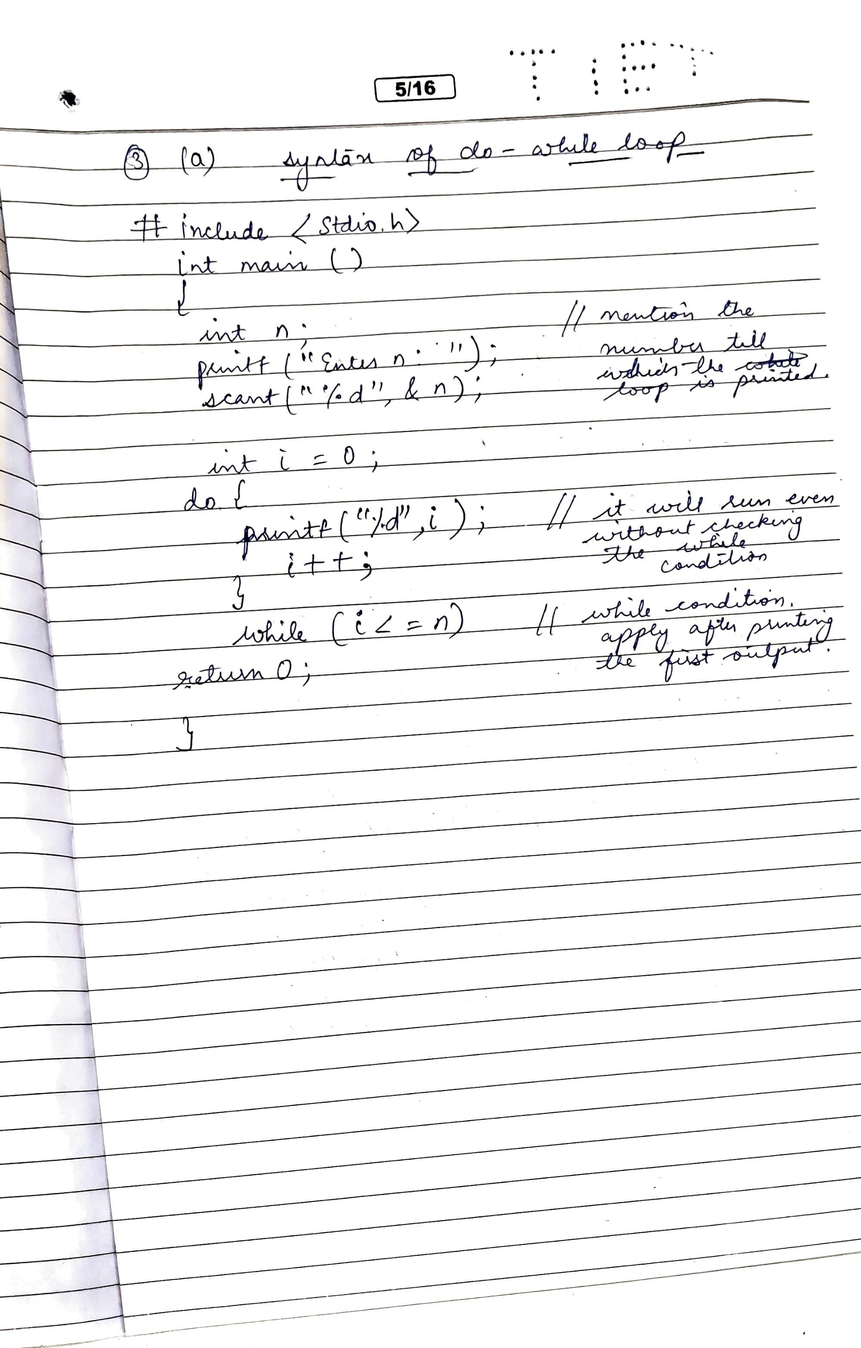cuttings: (733, 347, 810, 372)
